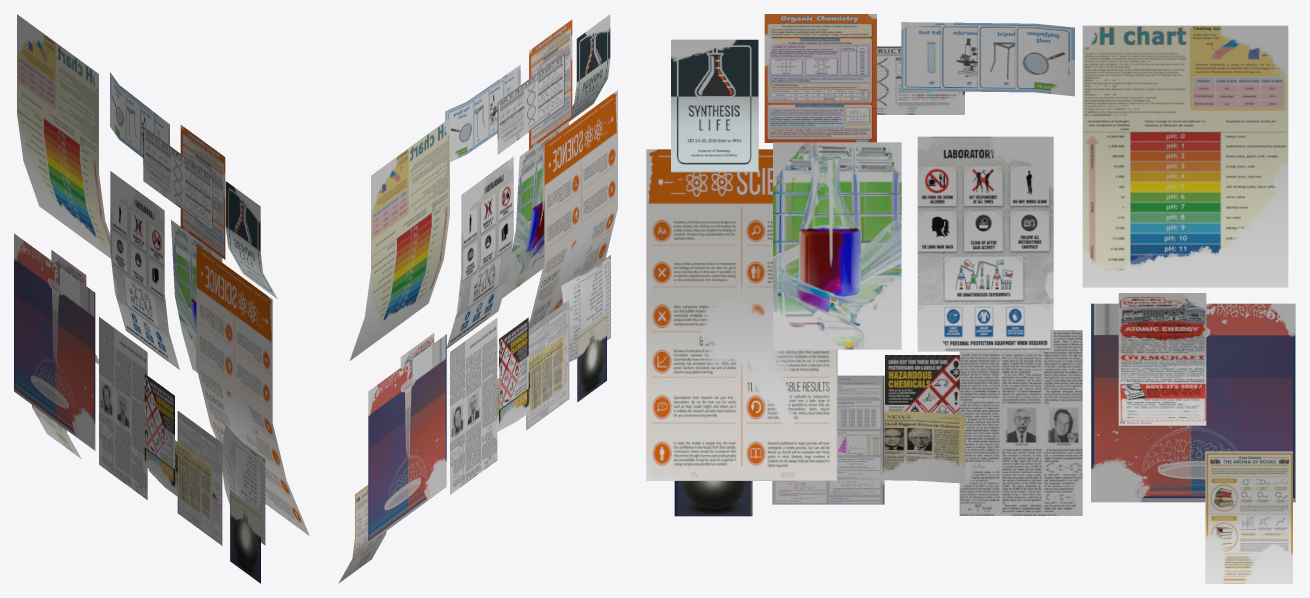
The model's file is SM_Board_papers.fbx.
The picture shows the model from 3 angles, left to right: view 1: azimuth 30°, elevation 25°; view 2: azimuth 150°, elevation 25°; view 3: azimuth 270°, elevation 25°; orthographic projection. The views are drawn at different scales.
Parts seen in each view (by area): view 1: SM_Board_papers_LOD0; view 2: SM_Board_papers_LOD0; view 3: SM_Board_papers_LOD0.
Part boxes in pixels (x1=…): SM_Board_papers_LOD0: x1=14, y1=14, x2=309, y2=583; SM_Board_papers_LOD0: x1=338, y1=14, x2=617, y2=583; SM_Board_papers_LOD0: x1=646, y1=14, x2=1295, y2=583.
Bounding box in the file's own units: 12.98 × 145 × 136.
1 material, 1 textured.
